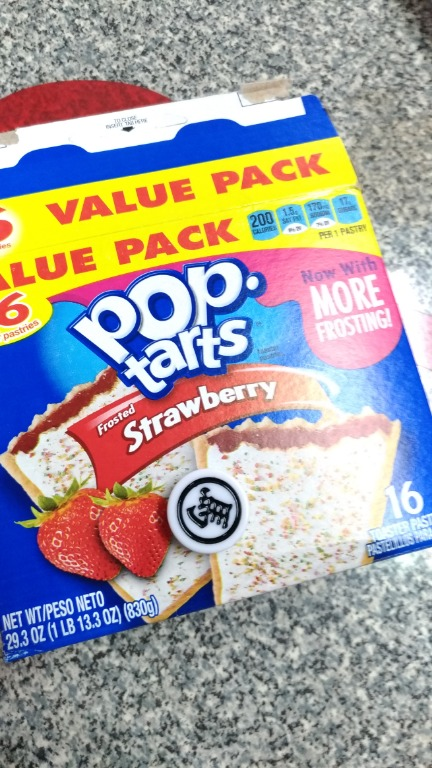b-knight: (142, 451, 283, 575)
